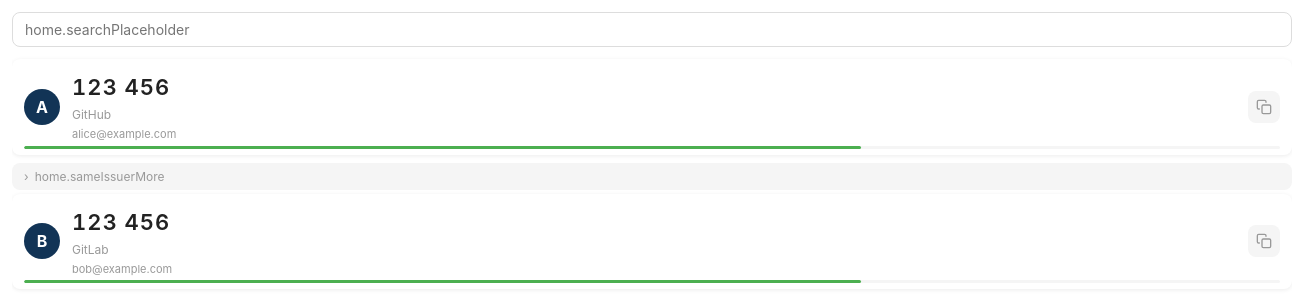
Test: AccountCodeList search › should filter by issuer case insensitively
In the search field with class "search-input": (652, 30) [12,12,1292,47], type "gitlab"
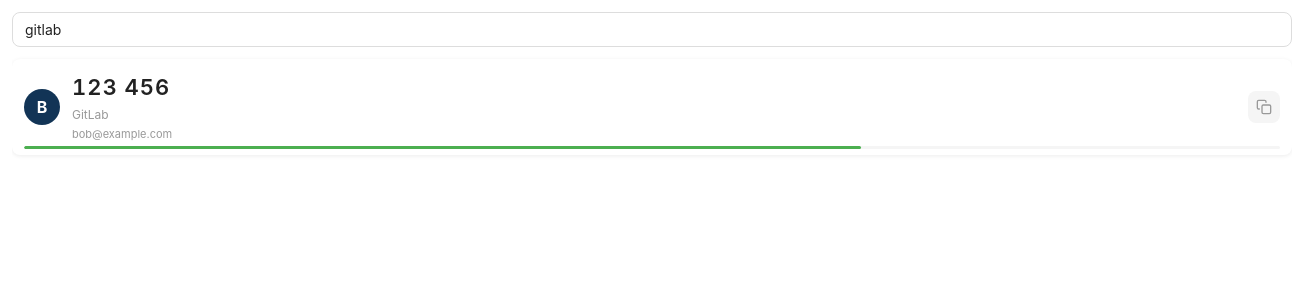
Expected: the number of elements with class "account-card" is 1, [12,59,1292,154]
